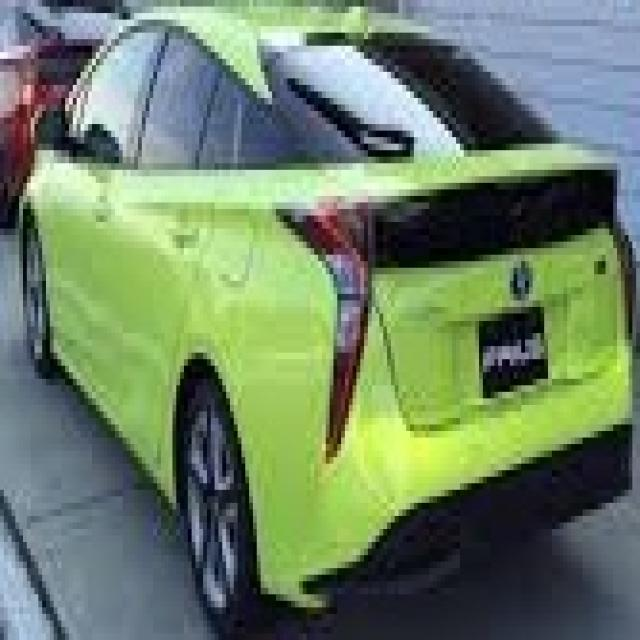green: (21, 0, 640, 633)
